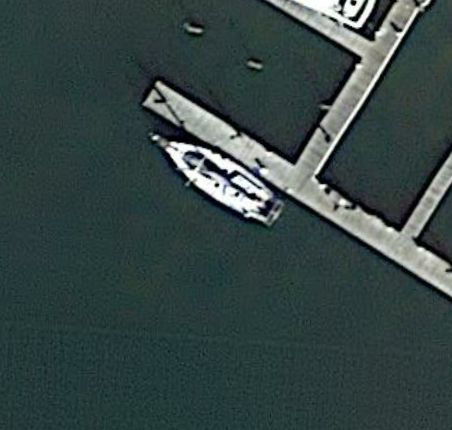boat: (145, 132, 284, 229)
